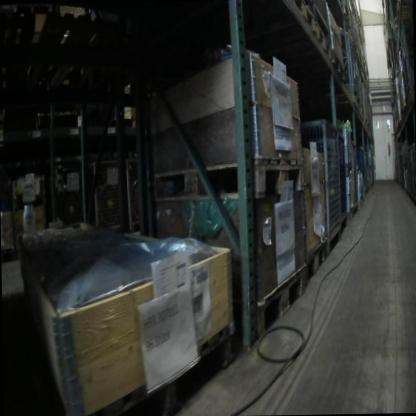pallet: (61, 319, 236, 416), (1, 7, 104, 118), (149, 145, 306, 205), (243, 263, 307, 344), (269, 3, 316, 35), (298, 236, 327, 280), (37, 109, 88, 134), (307, 17, 333, 64), (324, 47, 349, 87), (322, 86, 357, 112), (107, 117, 136, 133), (395, 4, 412, 19), (350, 104, 364, 120), (405, 95, 412, 110), (409, 85, 414, 103), (401, 107, 407, 120)
stillage: (293, 111, 343, 261), (125, 152, 166, 275), (8, 157, 51, 259), (89, 149, 126, 240), (52, 146, 92, 229), (339, 120, 354, 226), (350, 134, 359, 218), (355, 143, 365, 203)
